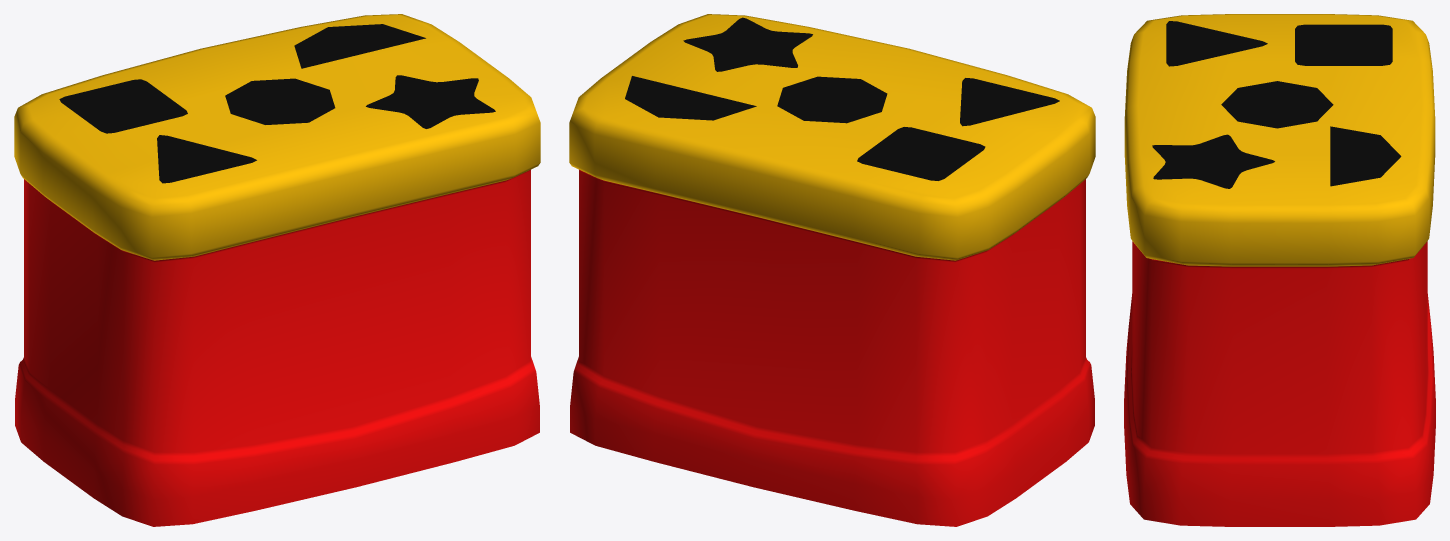
The model's file is block_shapes_container_01.FBX.
3 views of the same model, side by side, from view 1: azimuth 30°, elevation 25°; view 2: azimuth 150°, elevation 25°; view 3: azimuth 270°, elevation 25° (orthographic).
Parts seen in each view (by area): view 1: block_shapes_container_01; view 2: block_shapes_container_01; view 3: block_shapes_container_01.
Boxes of the visible parts, <box> form: block_shapes_container_01: <box>14,14,540,526</box>; block_shapes_container_01: <box>569,14,1095,526</box>; block_shapes_container_01: <box>1124,14,1435,526</box>.
Bounding box in the file's own units: 1607 × 1206 × 1051.
